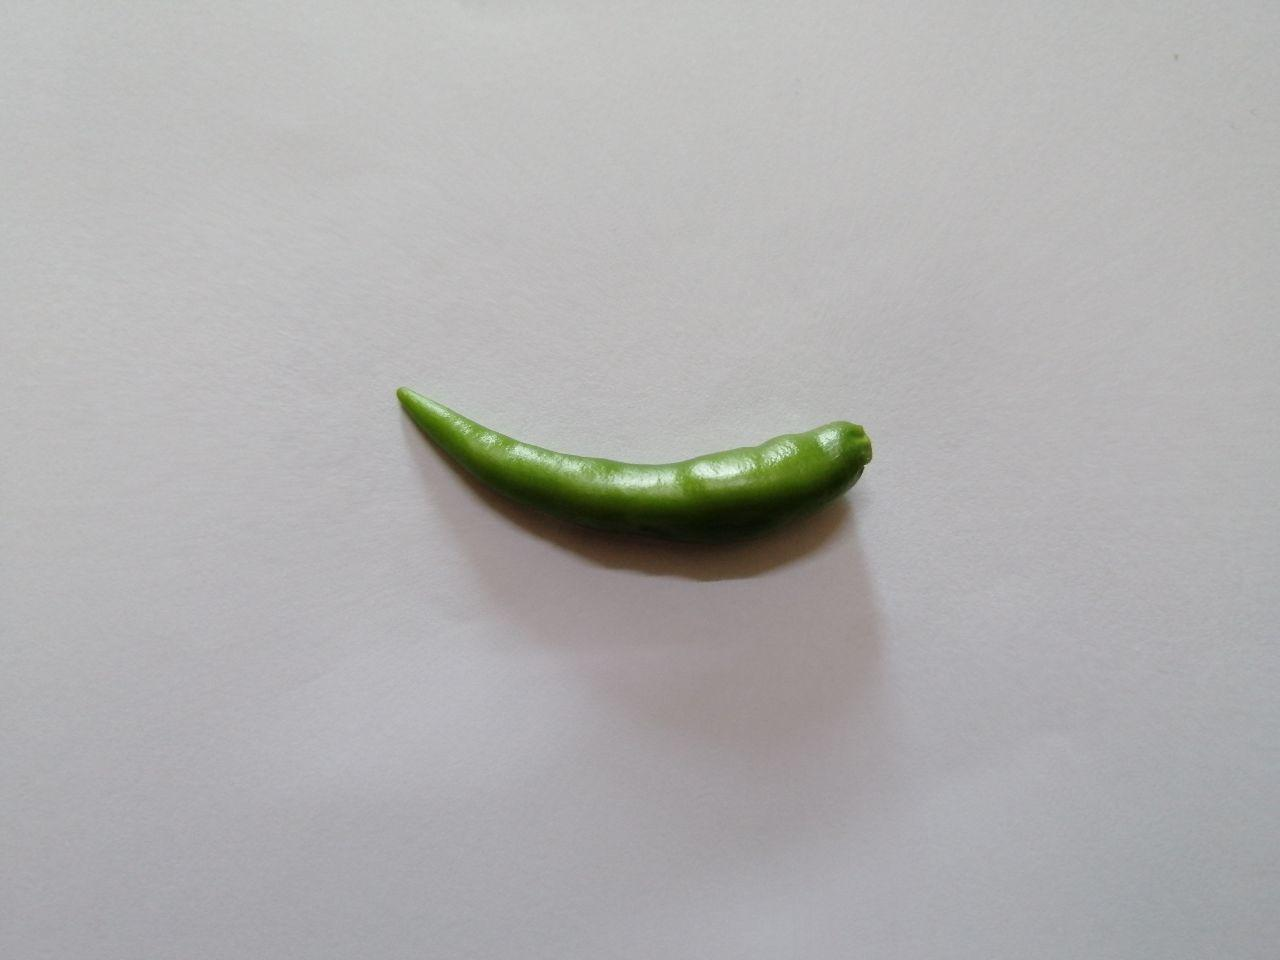lada hijau: (365, 361, 912, 567)
